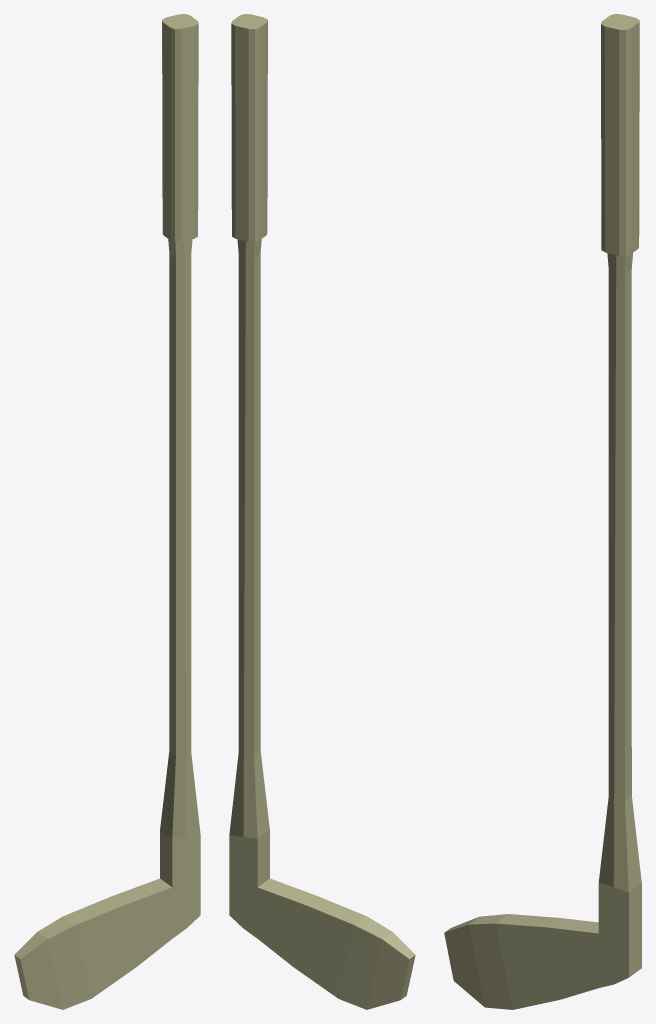
The model's file is golfStick.fbx.
3 views of the same model, side by side, from view 1: azimuth 30°, elevation 25°; view 2: azimuth 150°, elevation 25°; view 3: azimuth 330°, elevation 25° (orthographic). The views are drawn at different scales.
Parts seen in each view (by area): view 1: Cube; view 2: Cube; view 3: Cube.
Boxes of the visible parts, <box> form: Cube: <box>14,14,200,1009</box>; Cube: <box>229,14,415,1009</box>; Cube: <box>444,14,641,1009</box>.
Size of the model in its own units: 174 by 896 by 26.52.
